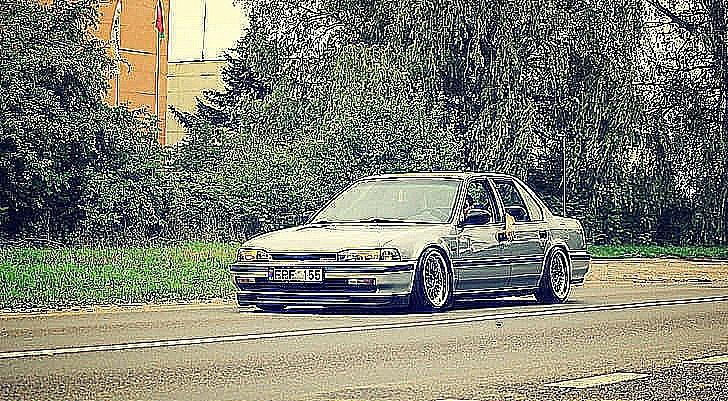Car hood: (243, 219, 451, 252)
Fender - -F-L-: (414, 224, 460, 303)
Fender - -R-L-: (531, 190, 585, 262)
Front bumper: (228, 260, 418, 312)
Headlight - -L-: (336, 245, 402, 265)
Headlight - -R-: (233, 246, 273, 262)
Passenger-s door - -F-L-: (448, 169, 512, 301)
Passenger-s door - -R-L-: (488, 169, 555, 307)
Rear bumper: (563, 248, 591, 294)
Side bumper - -L-: (450, 269, 549, 305)
Side mirror - -L-: (454, 209, 492, 232)
